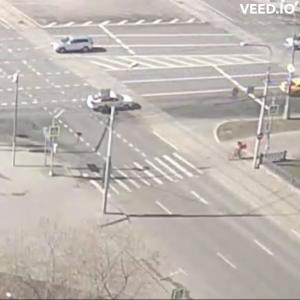car: (88, 91, 140, 115), (56, 39, 97, 55)
